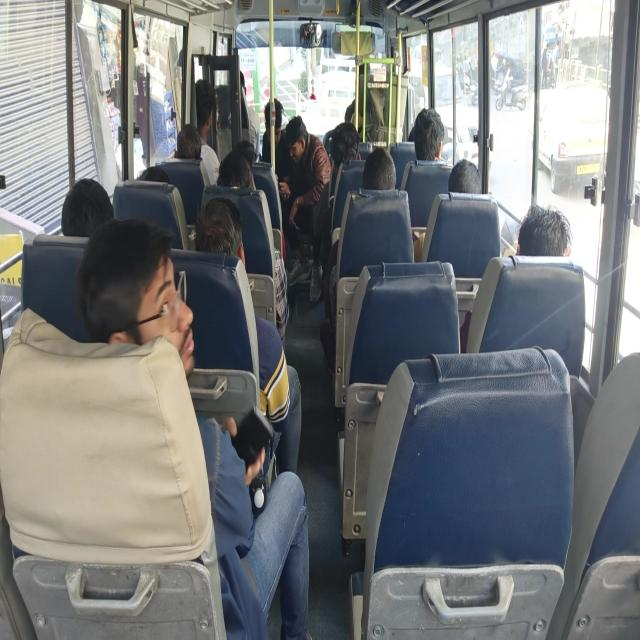person: (99, 236, 215, 386), (195, 189, 245, 278), (59, 165, 108, 245), (509, 224, 571, 285), (445, 159, 495, 205), (366, 158, 398, 215), (415, 100, 445, 160), (173, 118, 207, 169), (137, 150, 170, 200), (222, 158, 261, 199), (229, 77, 261, 118), (232, 131, 264, 169), (198, 74, 216, 131), (282, 115, 304, 159), (339, 124, 359, 171), (358, 60, 378, 104), (262, 100, 280, 145)
